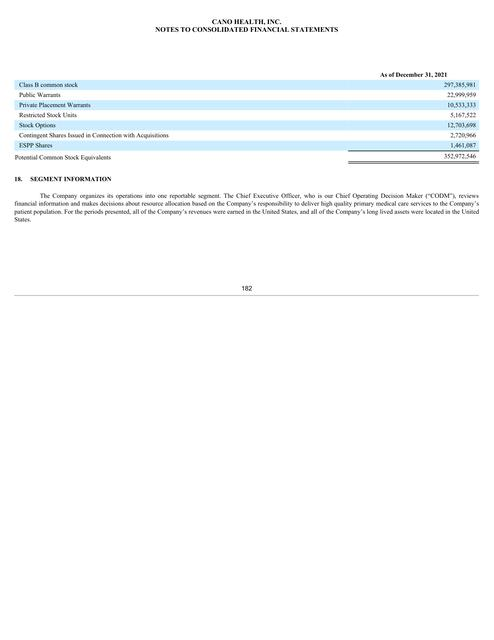box: (13, 72, 481, 167)
